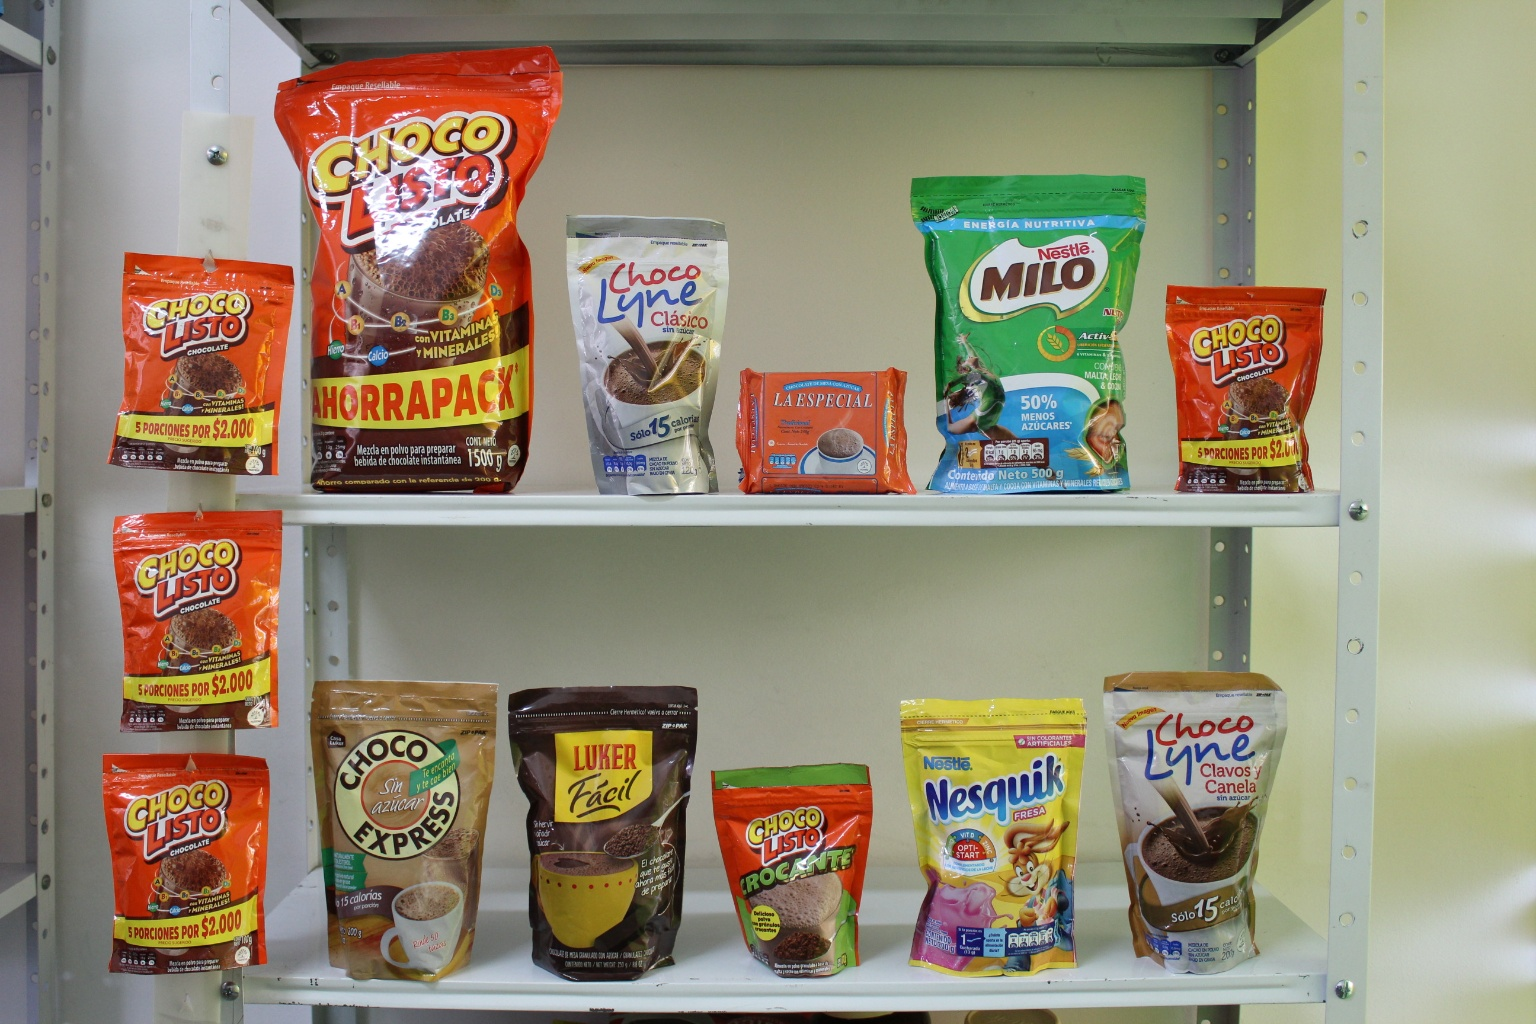COL0170102DYP10000: (709, 749, 886, 981)
COL0170103DYP1,500: (271, 26, 566, 494)
COL0170103DYP10000: (99, 246, 281, 488)
COL0170205DYP50000: (903, 159, 1147, 496)
COL0170305DYP20000: (901, 698, 1094, 986)
